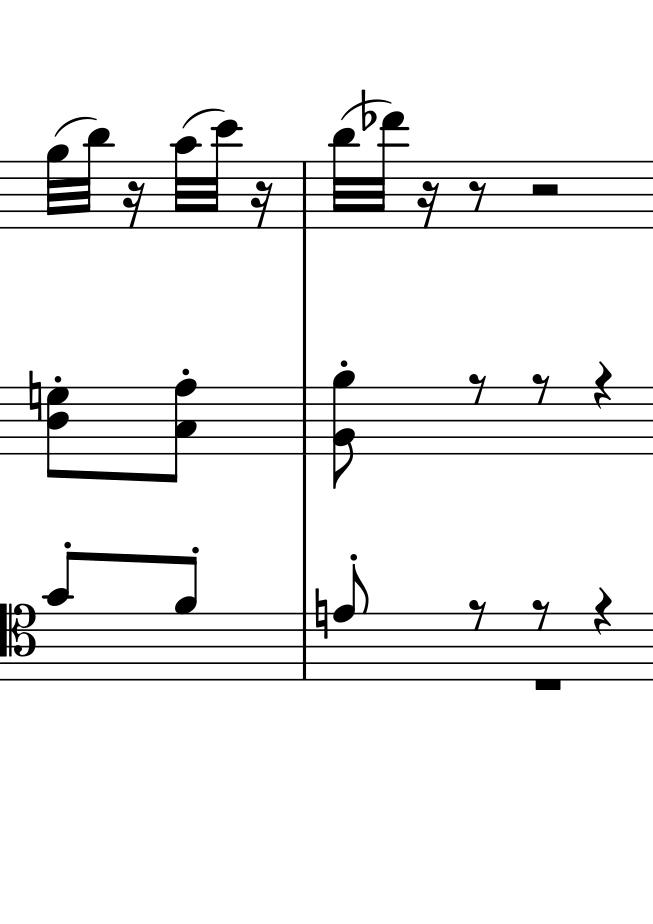32_10: (172, 136, 201, 231)
32_11: (80, 125, 110, 231), (330, 128, 358, 231)
32_12: (206, 118, 239, 231)
32_13: (369, 112, 408, 231)
32_9: (45, 144, 71, 230)
8_10: (41, 550, 78, 683)
8_2_9: (332, 369, 356, 491)
8_3_8: (164, 377, 197, 484)
8_4_7: (45, 385, 71, 480)
8_8: (331, 561, 367, 684)
8_9: (175, 553, 200, 685)
Flat: (358, 84, 374, 134)
Natural: (27, 370, 42, 425), (314, 589, 328, 640)
Rests1: (530, 675, 562, 695)
Rests16: (416, 180, 442, 230), (250, 179, 273, 229), (123, 180, 145, 231)
Rests2: (525, 180, 563, 198)
Rests4: (591, 359, 612, 411), (591, 586, 611, 636)
Rests8: (466, 596, 487, 632), (530, 371, 551, 404), (467, 373, 488, 405), (531, 596, 550, 631), (466, 177, 485, 211)
Single_barline: (296, 386, 312, 455), (296, 612, 312, 680), (296, 161, 313, 225)
Slur: (180, 107, 227, 130), (56, 116, 95, 138), (343, 98, 393, 115)
Tensor_Cclef: (1, 601, 36, 684)
